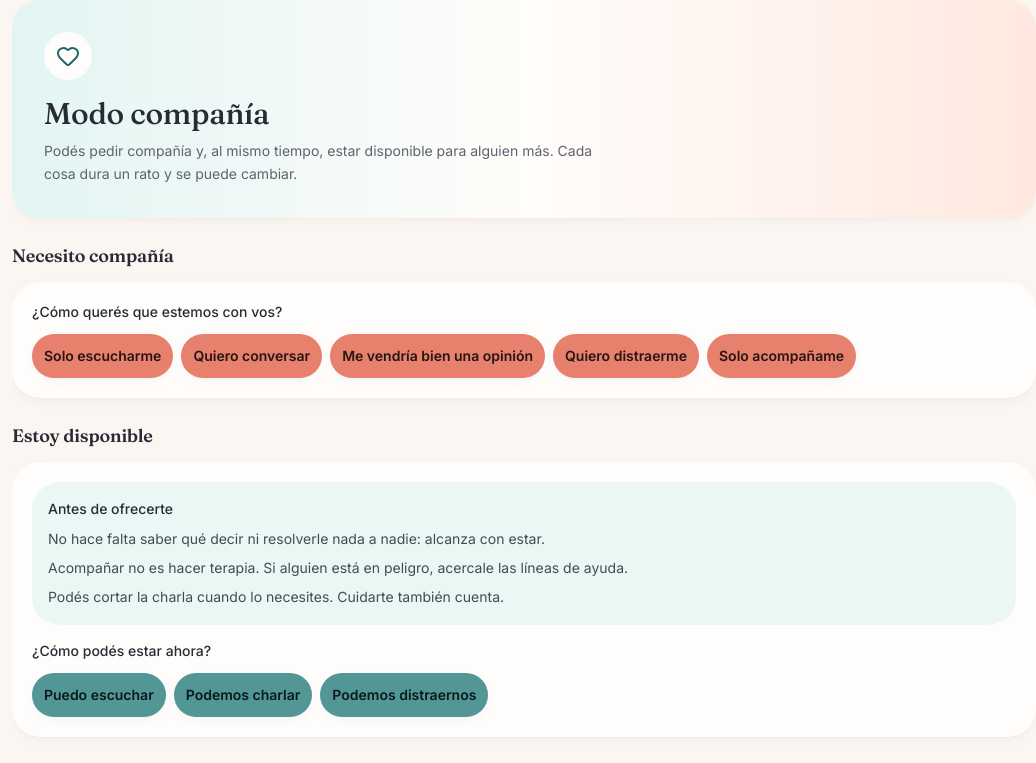
Test: CompanionModePage › sets and cancels a need, then shows a calm empty search
The width and height of the screenshot is (1036, 763).
Click the button "Solo escucharme": (103, 356) [32,334,173,378]
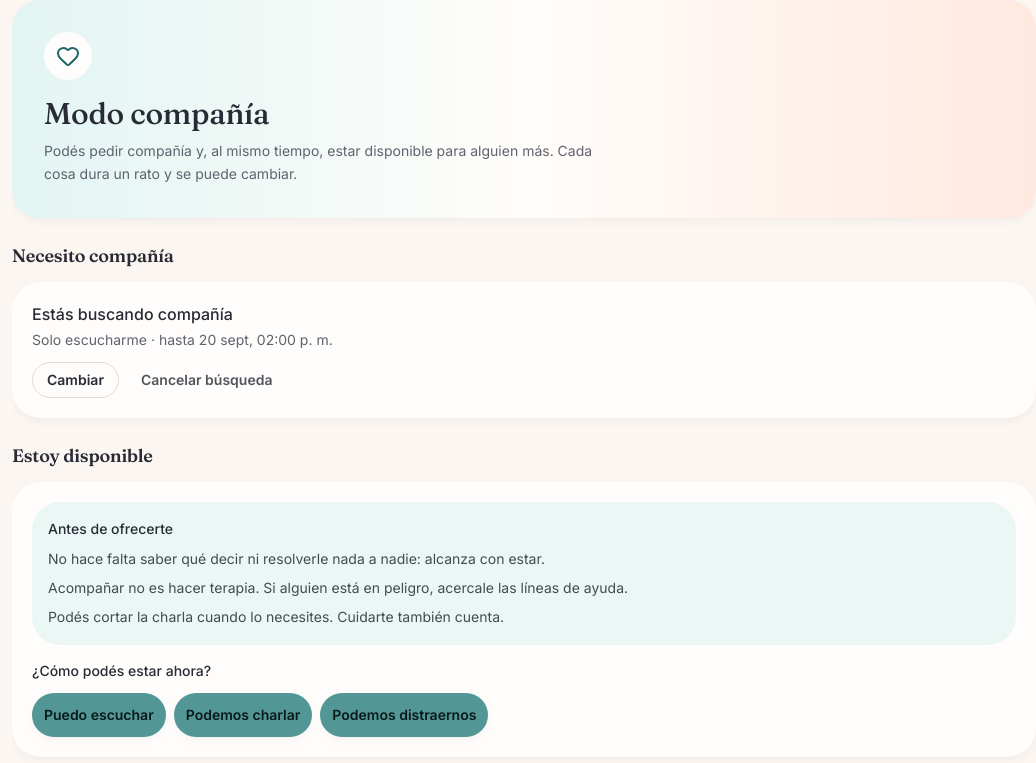
Expected: the text "Estás buscando compañía" is shown, [32,304,233,324]
Expected: the text "Solo escucharme · hasta 20 sept, 02:00 p. m." is shown, [32,330,333,348]
Click the button "Cancelar búsqueda": (207, 380) [127,362,286,398]
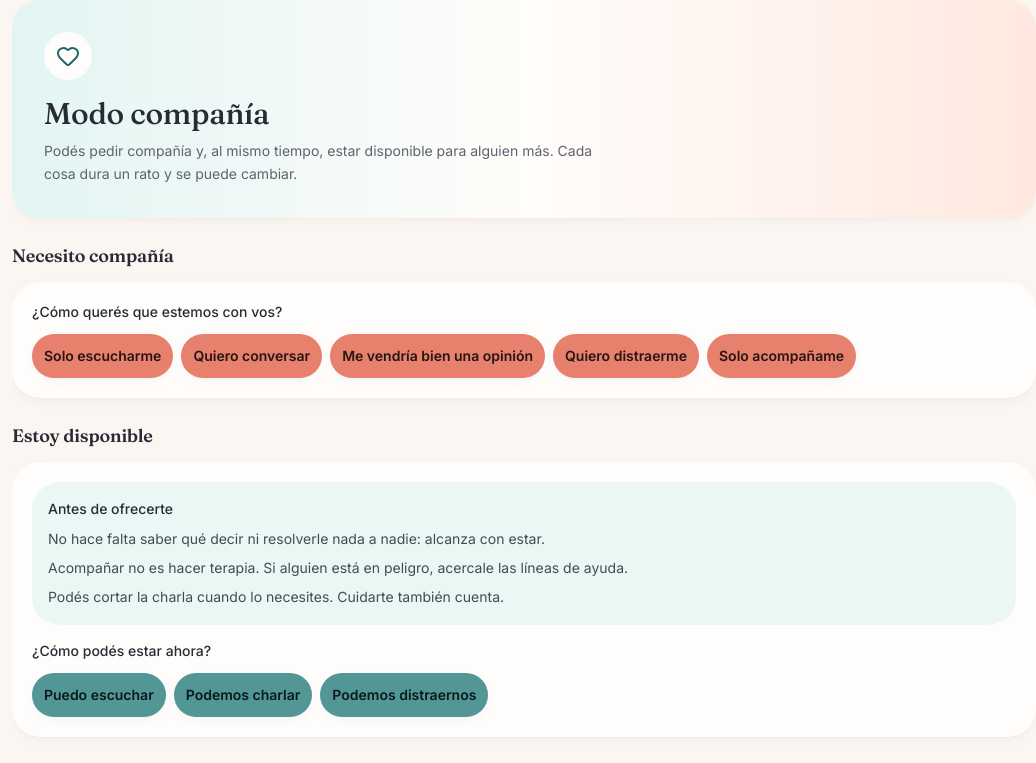
Expected: the text "Estás buscando compañía" is gone
